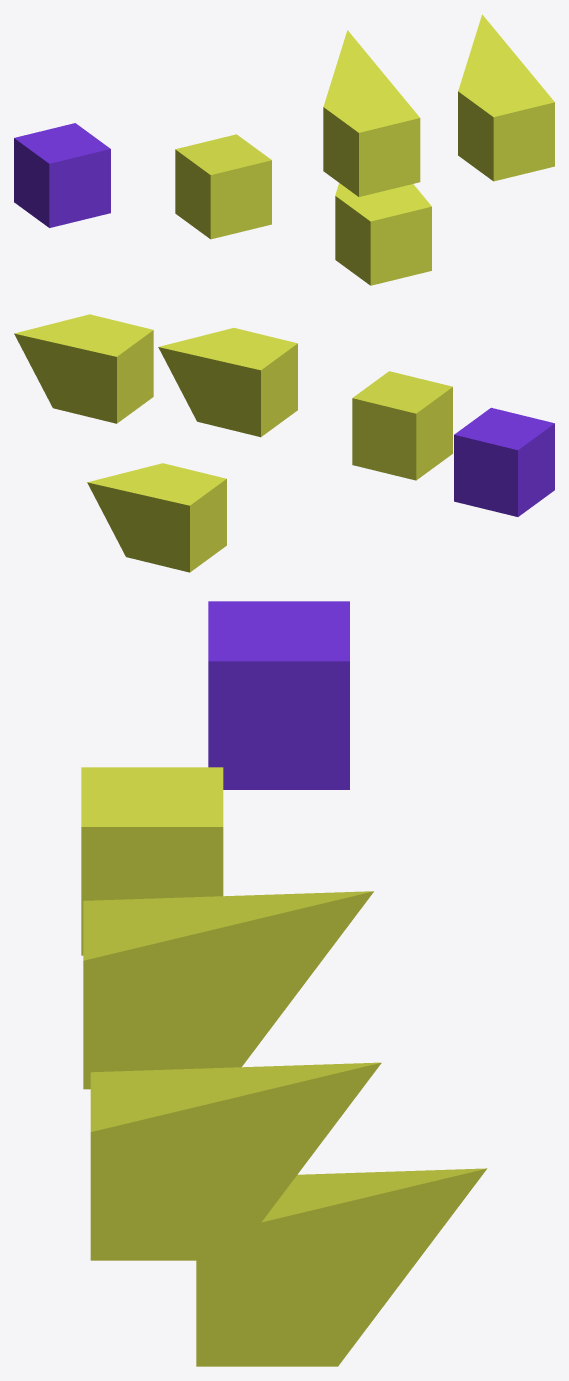
3 views of the same model, one above another, from view 1: azimuth 30°, elevation 25°; view 2: azimuth 150°, elevation 25°; view 3: azimuth 270°, elevation 25° (orthographic). The views are drawn at different scales.
Visible parts, largest first — view 1: 1.ad, 1, 1.tcv, 1.sd, 1.ad.001; view 2: 1, 1.ad.001, 1.ad, 1.tcv, 1.sd; view 3: 1, 1.ad, 1.ad.001, 1.tcv, 1.sd.
Boxes of the visible parts, left/top/right/bottom form: 1.ad: left=323, top=30, right=420, bottom=196; 1: left=458, top=14, right=554, bottom=181; 1.tcv: left=14, top=123, right=110, bottom=227; 1.sd: left=175, top=134, right=271, bottom=239; 1.ad.001: left=335, top=183, right=431, bottom=285; 1: left=14, top=314, right=153, bottom=423; 1.ad.001: left=87, top=463, right=226, bottom=572; 1.ad: left=158, top=328, right=297, bottom=437; 1.tcv: left=454, top=407, right=554, bottom=516; 1.sd: left=352, top=371, right=452, bottom=480; 1: left=90, top=1062, right=381, bottom=1260; 1.ad: left=83, top=891, right=373, bottom=1089; 1.ad.001: left=196, top=1168, right=487, bottom=1366; 1.tcv: left=208, top=601, right=349, bottom=789; 1.sd: left=81, top=767, right=223, bottom=955.
Bounding box in the file's own units: 775 × 340 × 286.
